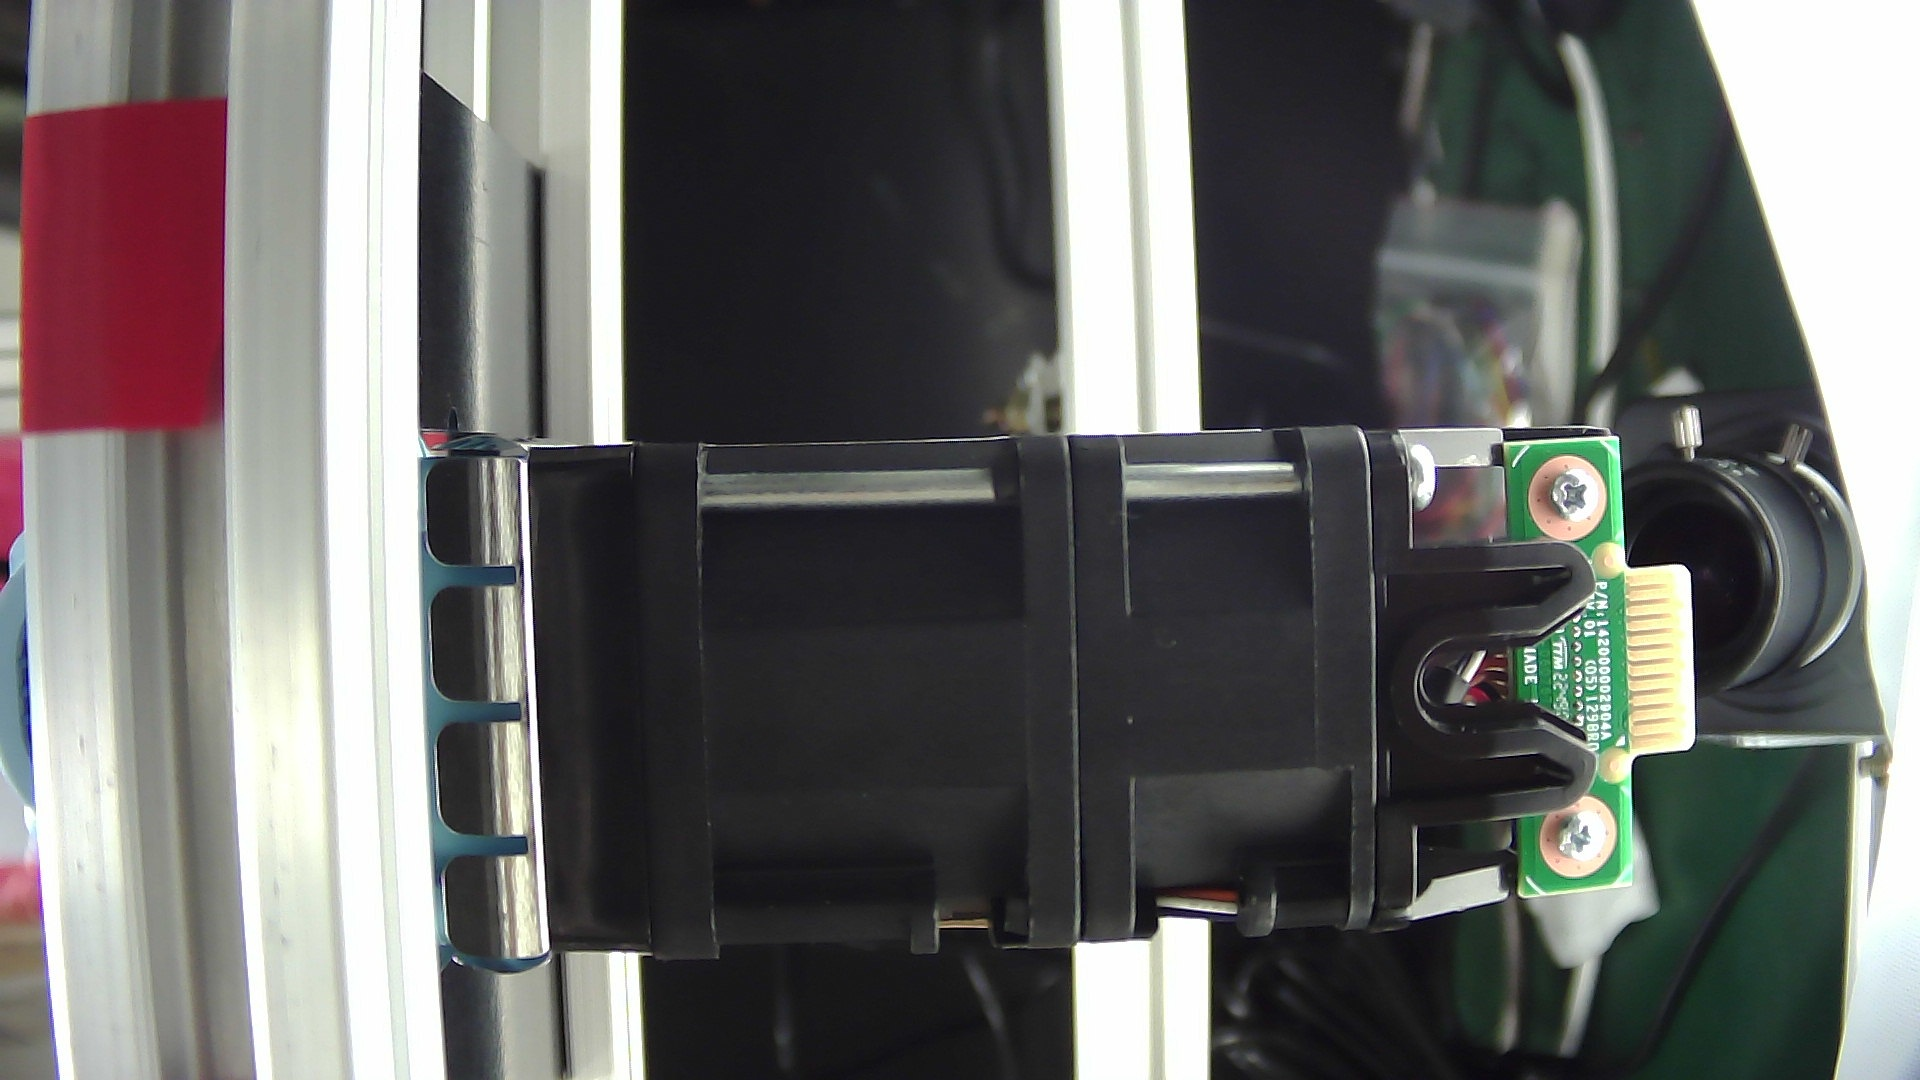6_4: (477, 467, 1514, 725)
